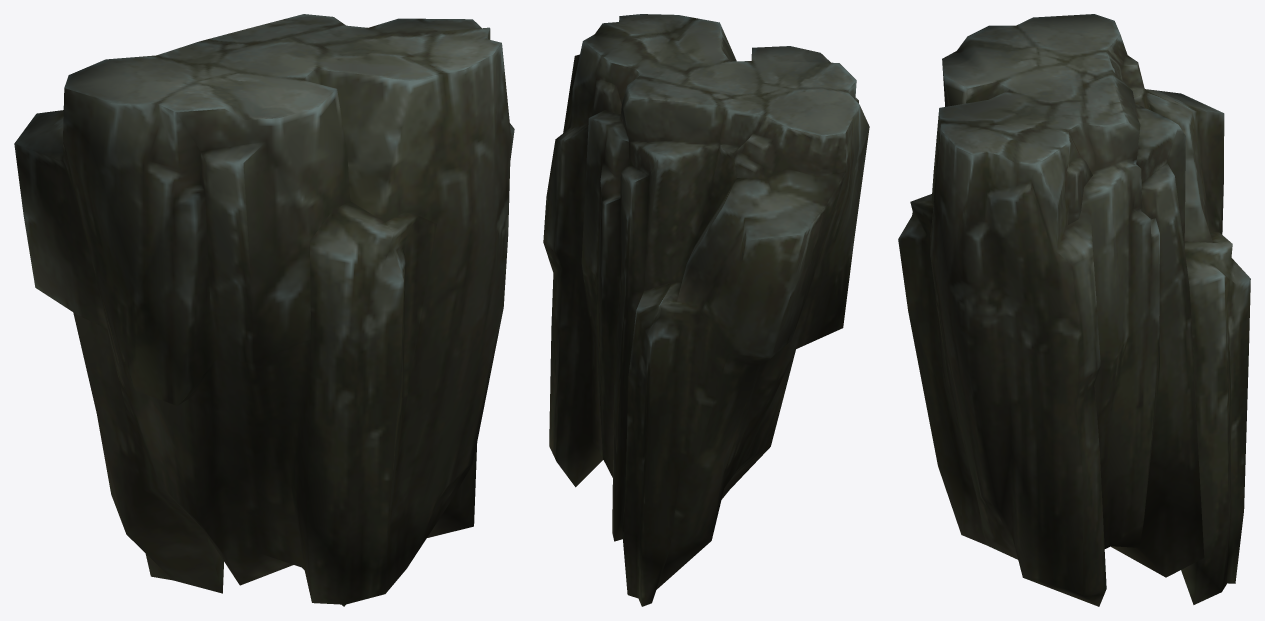
The model's file is yw_shangu_stones_001.FBX.
3 renders of one model, left to right at view 1: azimuth 30°, elevation 25°; view 2: azimuth 150°, elevation 25°; view 3: azimuth 270°, elevation 25°, orthographic. The views are drawn at different scales.
Parts seen in each view (by area): view 1: yw_shangu_stones_001; view 2: yw_shangu_stones_001; view 3: yw_shangu_stones_001.
Part boxes in pixels (x1,y1,x2,y2): yw_shangu_stones_001: (14,14,514,606); yw_shangu_stones_001: (543,14,869,606); yw_shangu_stones_001: (898,14,1250,606).
Size of the model in its own units: 253 by 371 by 231.
